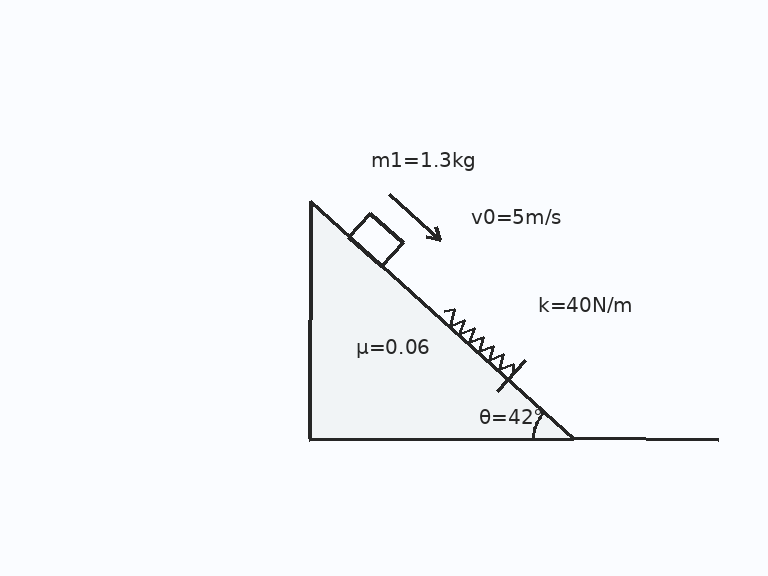block: (346, 211, 405, 268)
ramp: (307, 199, 575, 441)
spring: (442, 308, 515, 375)
